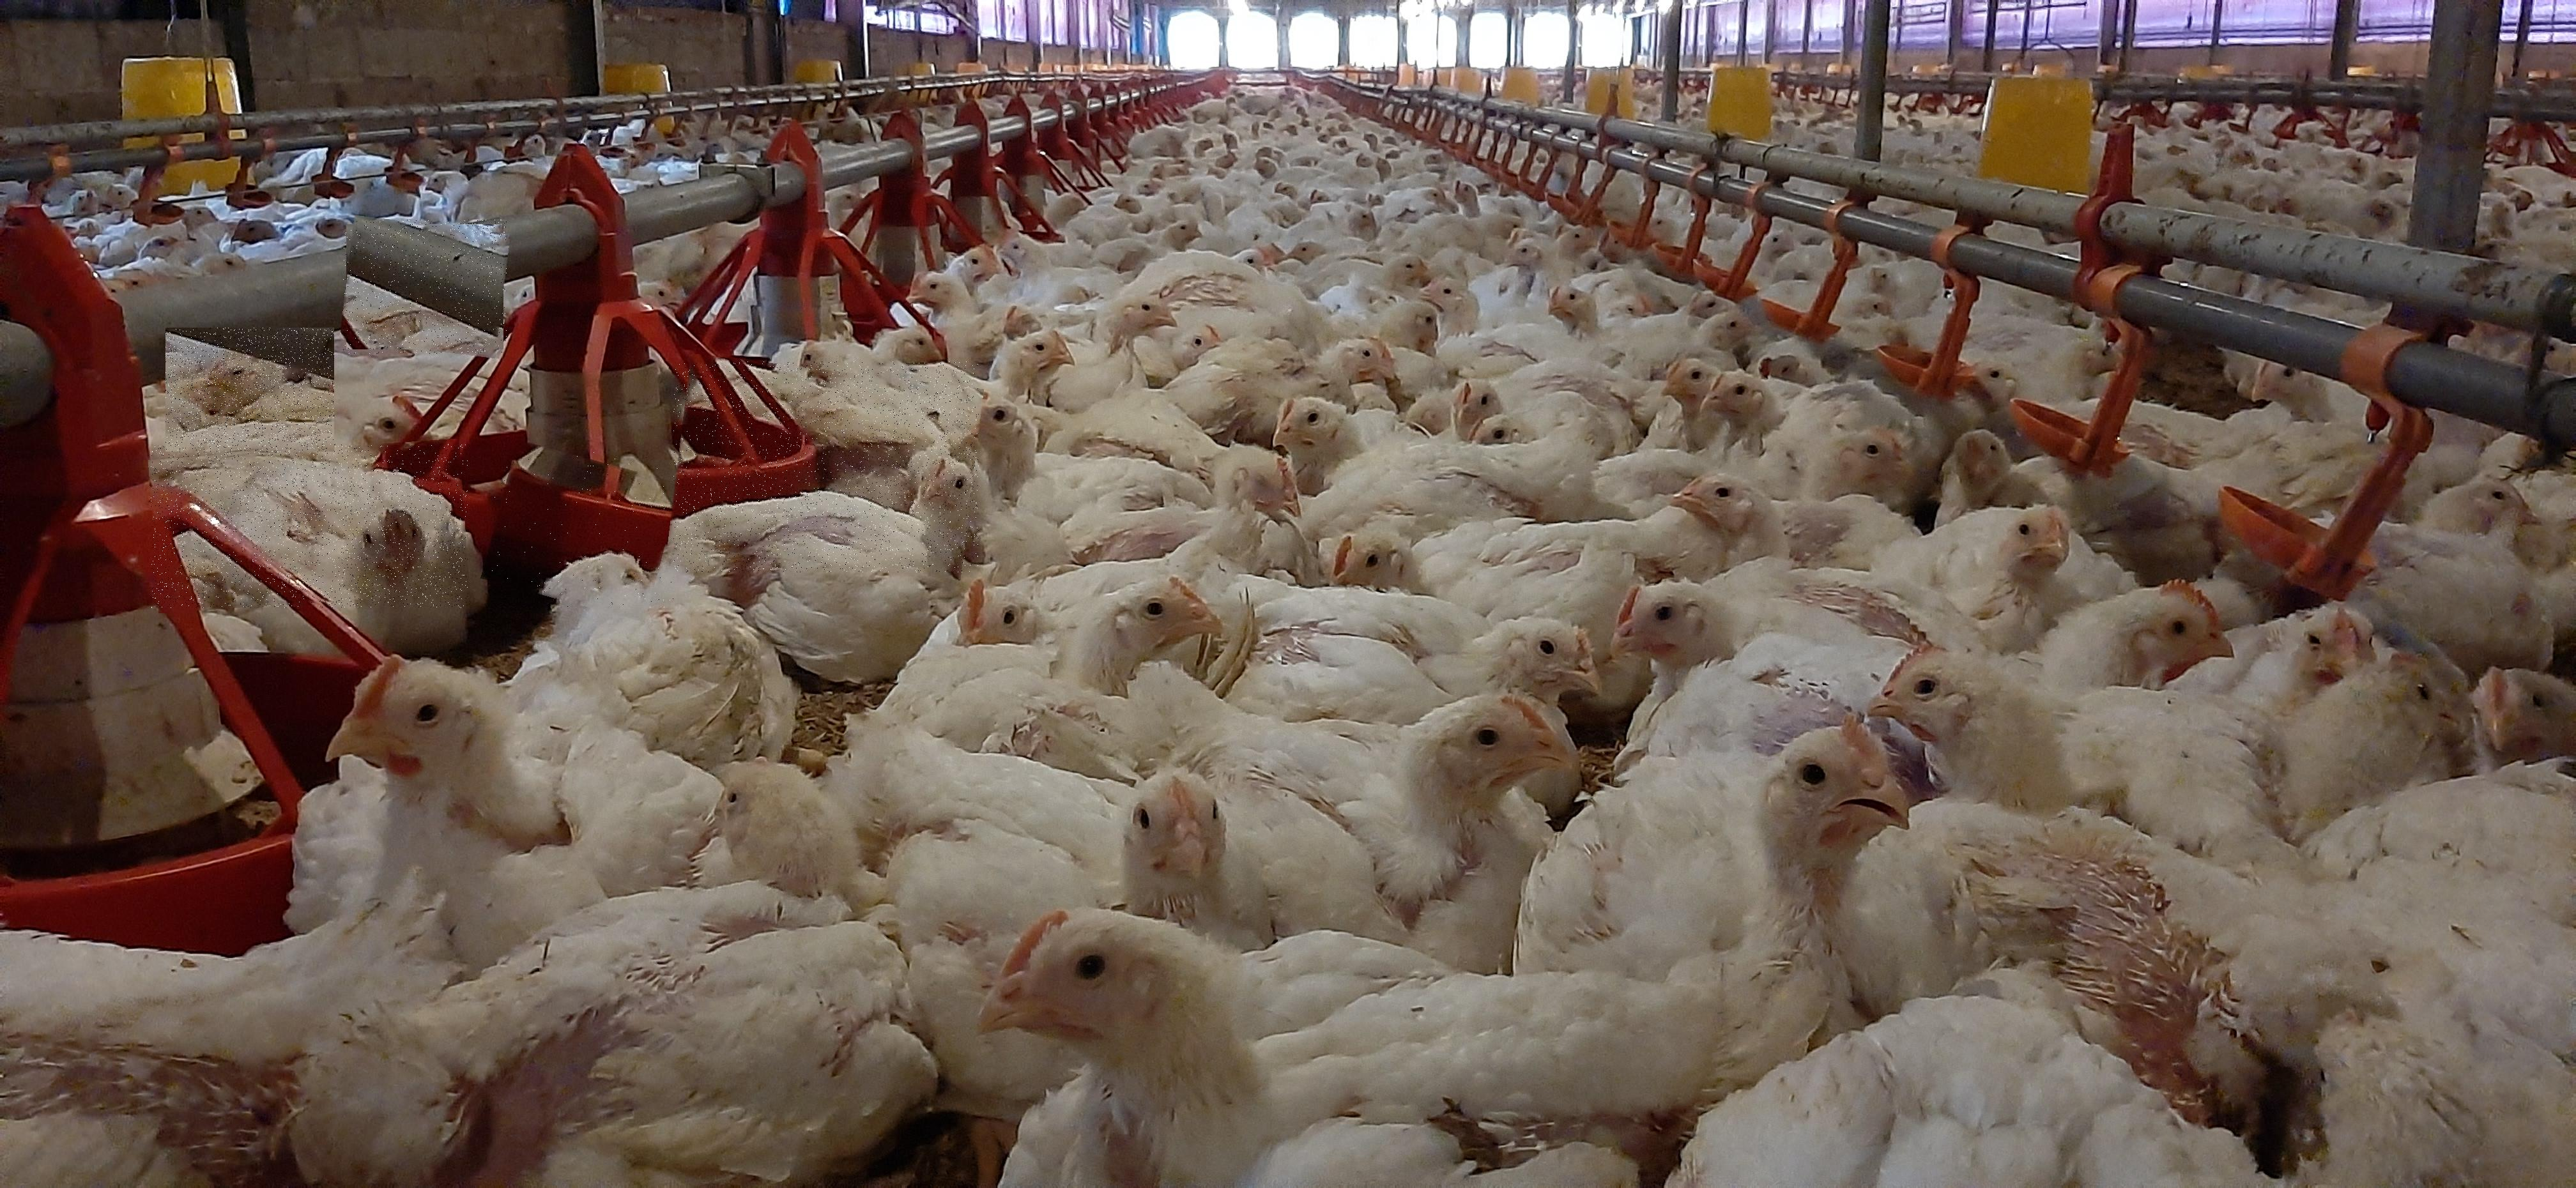chicken: (1326, 713, 1927, 1127), (297, 874, 920, 1188), (963, 886, 1327, 1188), (675, 432, 997, 697), (325, 646, 657, 889)
